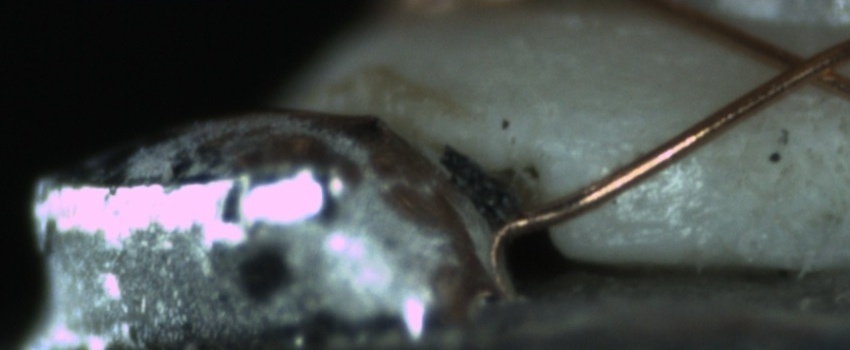CL: (762, 38, 845, 93)
